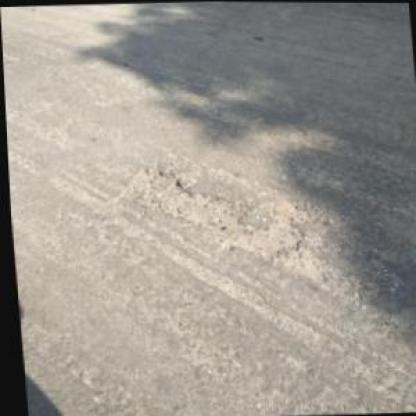pothole: (118, 158, 331, 290)
